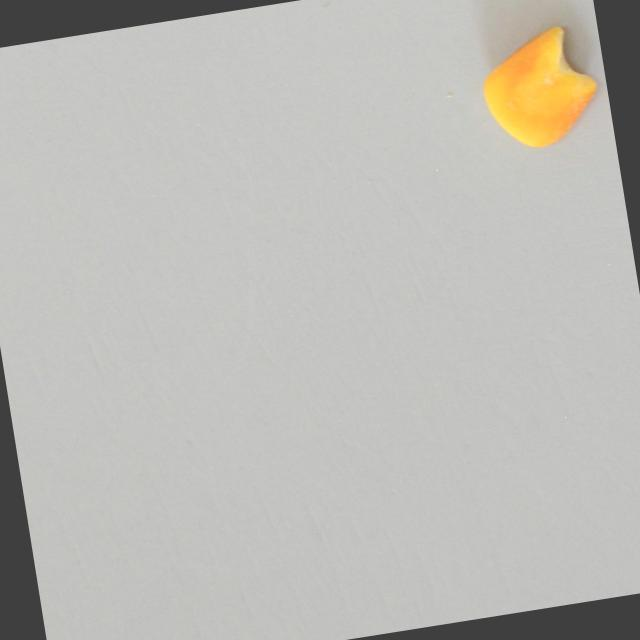dañado: (457, 7, 618, 178)
